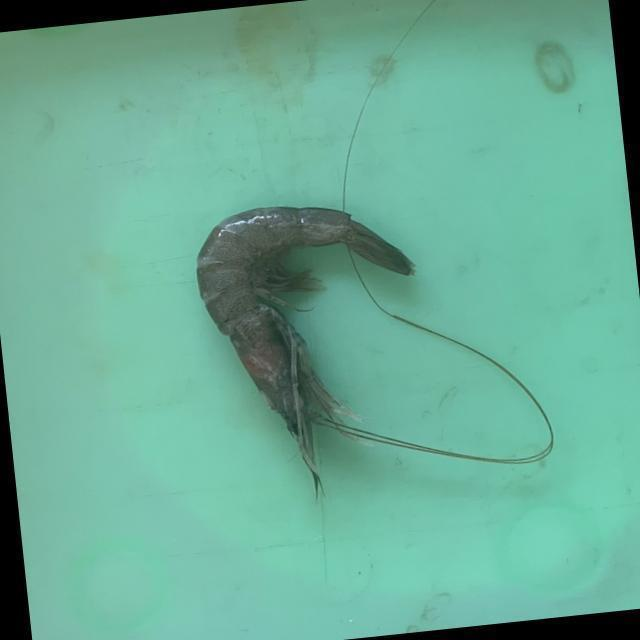shrimp: (196, 207, 535, 490)
